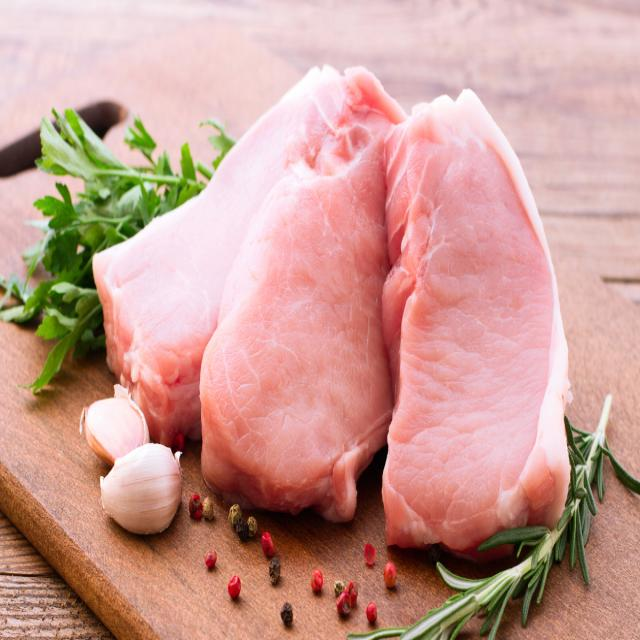carne de cerdo: (88, 52, 579, 561)
